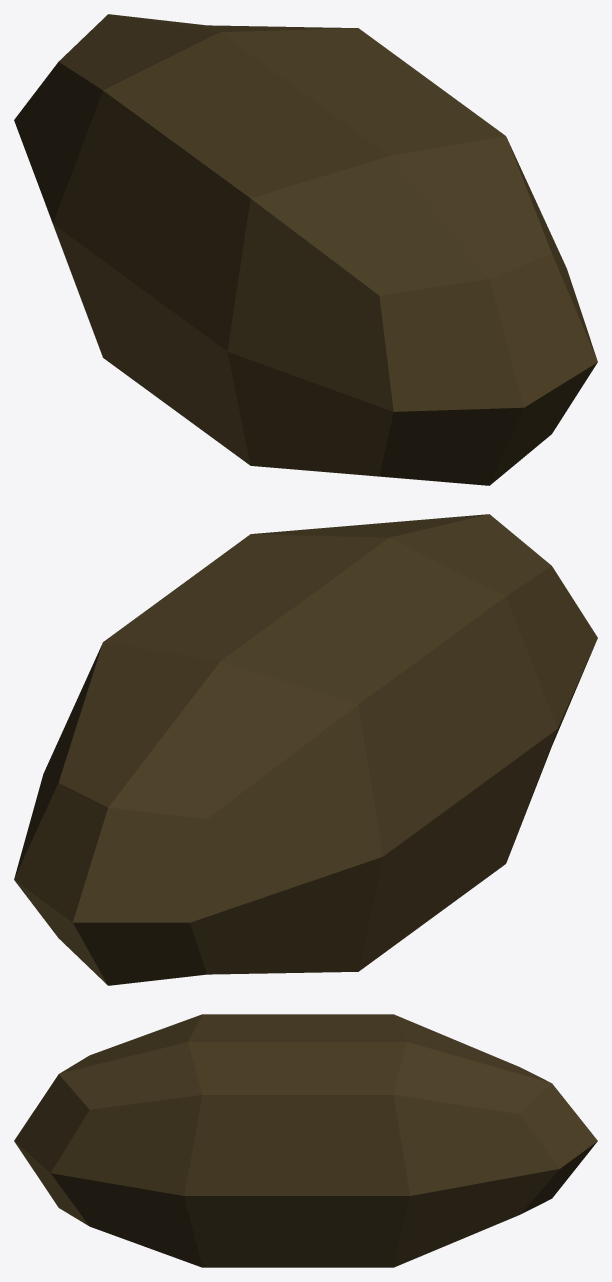
File: Patatoe.fbx
3 views of the same model, one above another, from view 1: azimuth 30°, elevation 25°; view 2: azimuth 150°, elevation 25°; view 3: azimuth 270°, elevation 25° (orthographic). The views are drawn at different scales.
Visible parts, largest first — view 1: Cube; view 2: Cube; view 3: Cube.
Boxes of the visible parts, x1=… form: Cube: x1=14, y1=14, x2=597, y2=485; Cube: x1=14, y1=514, x2=597, y2=985; Cube: x1=14, y1=1014, x2=597, y2=1267.
Bounding box in the file's own units: 26.58 × 22.92 × 61.2.
